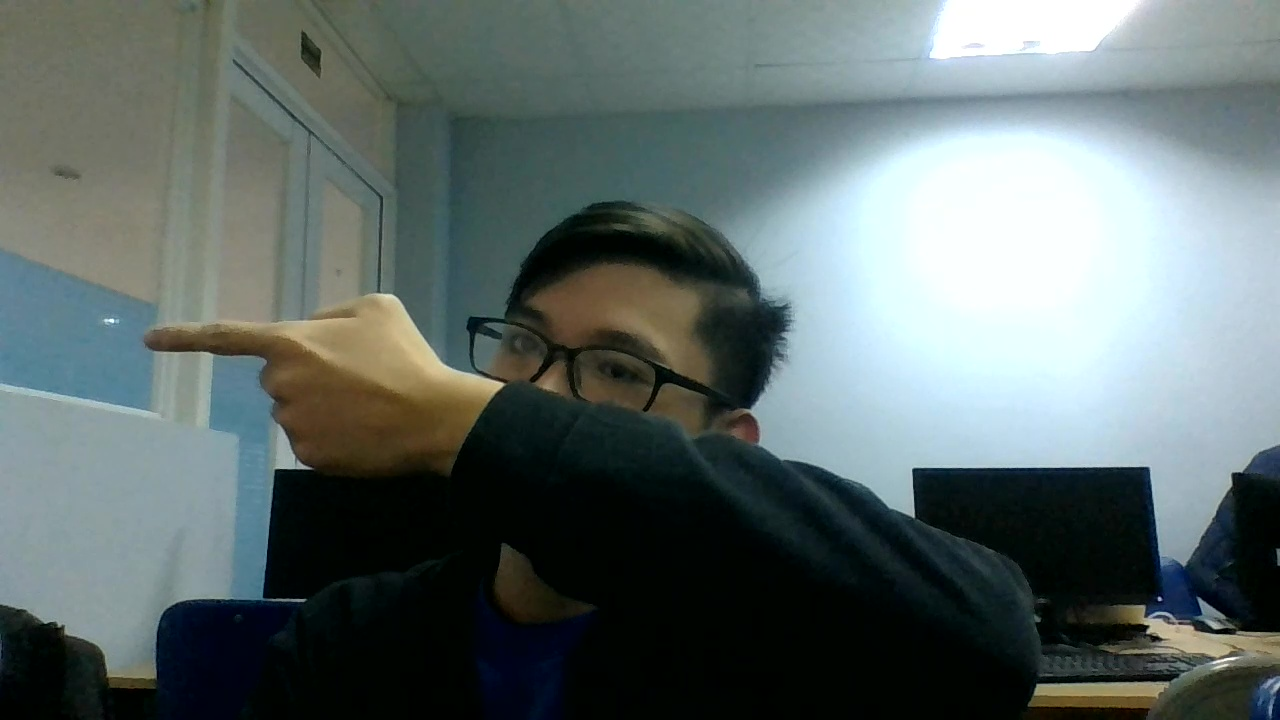right: (141, 294, 448, 489)
